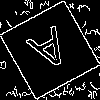A: (25, 25, 78, 82)
